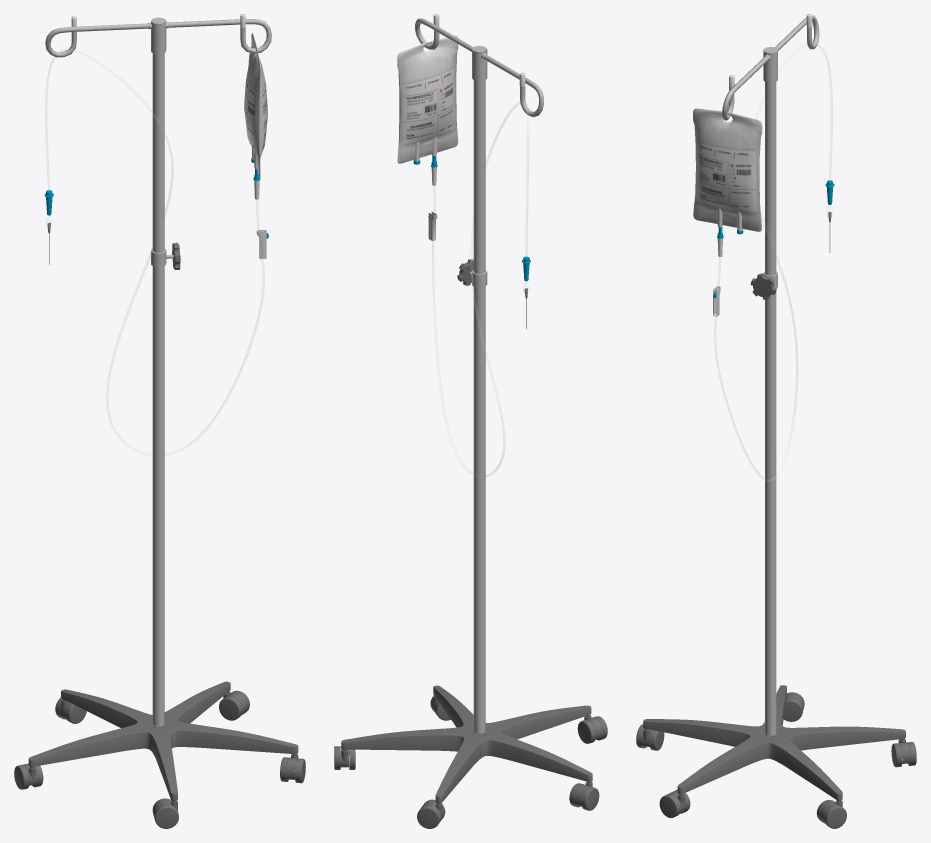
File: IVSand.fbx
3 renders of one model, left to right at view 1: azimuth 30°, elevation 25°; view 2: azimuth 150°, elevation 25°; view 3: azimuth 270°, elevation 25°, orthographic. The views are drawn at different scales.
Visible parts, largest first — view 1: IV_Stand_Bag, leg, wheels, blood_bag, fill; view 2: IV_Stand_Bag, leg, blood_bag, wheels, fill; view 3: IV_Stand_Bag, leg, blood_bag, wheels, fill.
Boxes of the visible parts, <box> form: IV_Stand_Bag: <box>45,14,271,727</box>; leg: <box>28,681,298,800</box>; wheels: <box>14,690,305,828</box>; blood_bag: <box>244,33,267,177</box>; fill: <box>45,49,264,455</box>; IV_Stand_Bag: <box>415,14,543,734</box>; leg: <box>341,685,592,803</box>; blood_bag: <box>397,35,458,163</box>; wheels: <box>334,695,607,828</box>; fill: <box>432,102,528,477</box>; IV_Stand_Bag: <box>722,14,819,736</box>; leg: <box>643,685,905,800</box>; blood_bag: <box>693,108,762,231</box>; wheels: <box>636,692,916,828</box>; fill: <box>714,43,832,480</box>.
Size of the model in its own units: 63.36 by 182 by 63.45.
